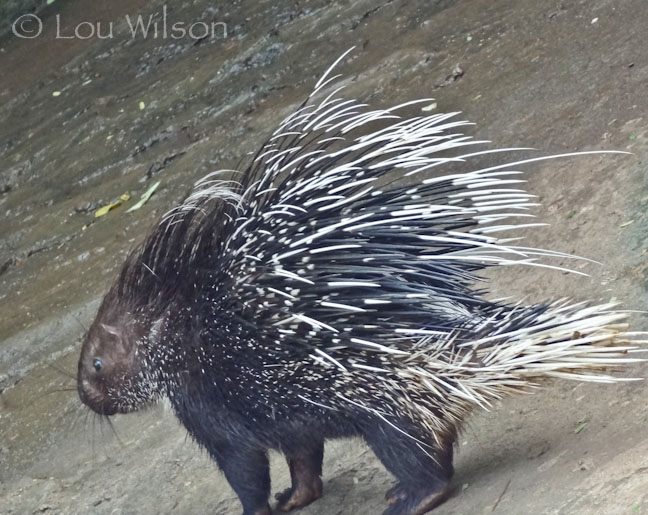porcupine: (67, 68, 608, 515)
